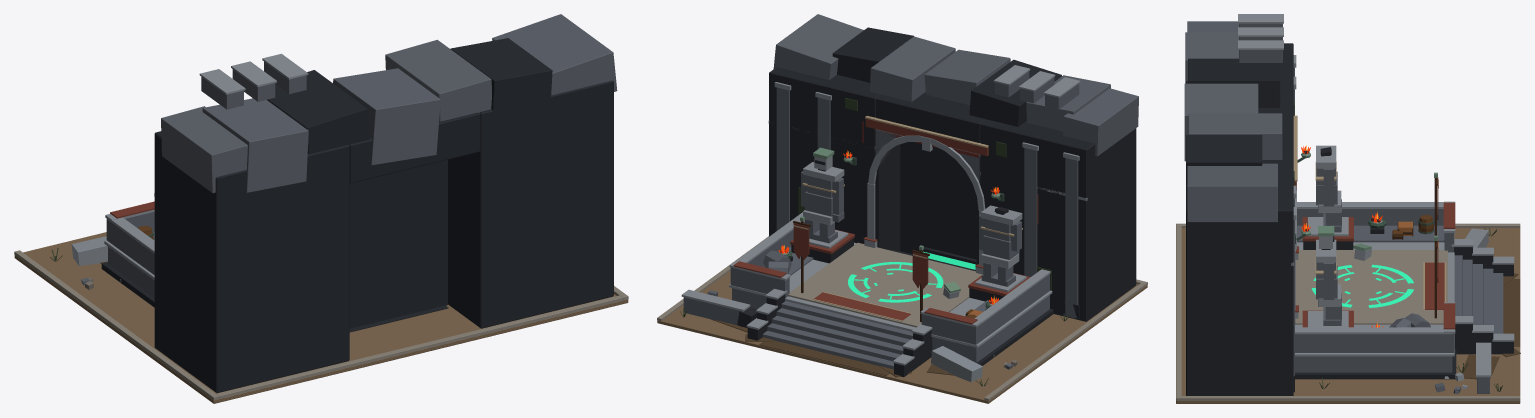
File: 地下城入口_低模.glb
3 renders of one model, left to right at view 1: azimuth 30°, elevation 25°; view 2: azimuth 150°, elevation 25°; view 3: azimuth 270°, elevation 25°, orthographic. The views are drawn at different scales.
Visible parts, largest first — view 1: UC-ancient_dark, UC-ancient, UC-earth, UC-paving, UC-ancient_pale; view 2: UC-ancient_dark, UC-ancient, UC-ancient_pale, UC-paving, UC-earth, UC-team, UC-earth_dark, UC-depth_glow, UC-team_trim, UC-moss_dark, UC-bronze; view 3: UC-ancient_dark, UC-ancient, UC-ancient_pale, UC-paving, UC-earth, UC-team, UC-earth_dark, UC-depth_glow, UC-team_trim, UC-wood_dark, UC-bronze.
Boxes of the visible parts, <box> form: UC-ancient_dark: <box>101,38,613,392</box>; UC-ancient: <box>81,14,617,297</box>; UC-earth: <box>14,232,628,403</box>; UC-paving: <box>14,250,628,400</box>; UC-ancient_pale: <box>71,53,308,280</box>; UC-ancient_dark: <box>737,27,1136,377</box>; UC-ancient: <box>683,14,1138,369</box>; UC-ancient_pale: <box>681,65,1087,382</box>; UC-paving: <box>657,236,1147,401</box>; UC-earth: <box>657,271,1147,403</box>; UC-team: <box>733,118,1030,324</box>; UC-earth_dark: <box>711,319,953,377</box>; UC-depth_glow: <box>848,251,975,302</box>; UC-team_trim: <box>794,116,1022,321</box>; UC-moss_dark: <box>680,98,1070,386</box>; UC-bronze: <box>800,147,1000,293</box>; UC-ancient_dark: <box>1186,43,1513,395</box>; UC-ancient: <box>1184,21,1503,394</box>; UC-ancient_pale: <box>1238,14,1514,389</box>; UC-paving: <box>1176,223,1520,400</box>; UC-earth: <box>1176,228,1520,403</box>; UC-team: <box>1294,177,1455,329</box>; UC-earth_dark: <box>1461,273,1520,379</box>; UC-depth_glow: <box>1311,264,1413,307</box>; UC-team_trim: <box>1293,115,1445,309</box>; UC-wood_dark: <box>1392,178,1437,318</box>; UC-bronze: <box>1301,152,1437,250</box>.
Bounding box in the file's own units: 14.6 × 9.18 × 12.17.
